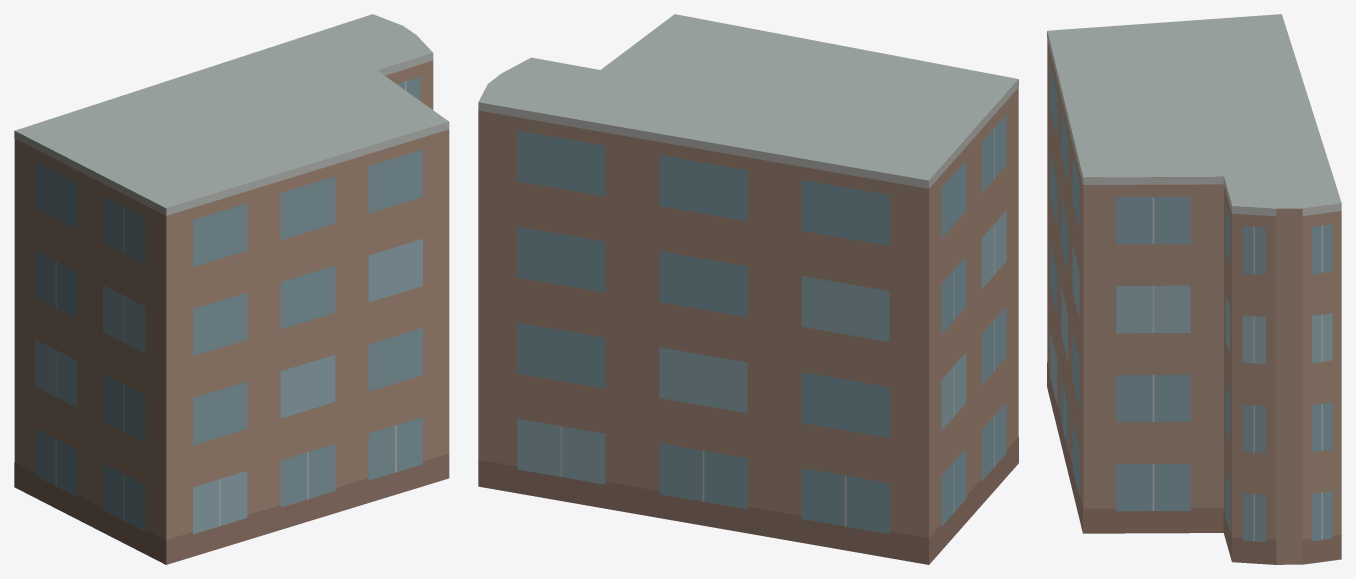
The model's file is survey-upis-33046015.glb.
The picture shows the model from 3 angles, left to right: view 1: azimuth 30°, elevation 25°; view 2: azimuth 150°, elevation 25°; view 3: azimuth 270°, elevation 25°; orthographic projection. The views are drawn at different scales.
Visible parts, largest first — view 1: survey-upis-33046015.tmp; view 2: survey-upis-33046015.tmp; view 3: survey-upis-33046015.tmp.
Part boxes in pixels (x1=…): survey-upis-33046015.tmp: x1=14, y1=14, x2=449, y2=564; survey-upis-33046015.tmp: x1=478, y1=14, x2=1018, y2=564; survey-upis-33046015.tmp: x1=1047, y1=14, x2=1341, y2=564.
Size of the model in its own units: 13.38 by 11.4 by 8.56.
